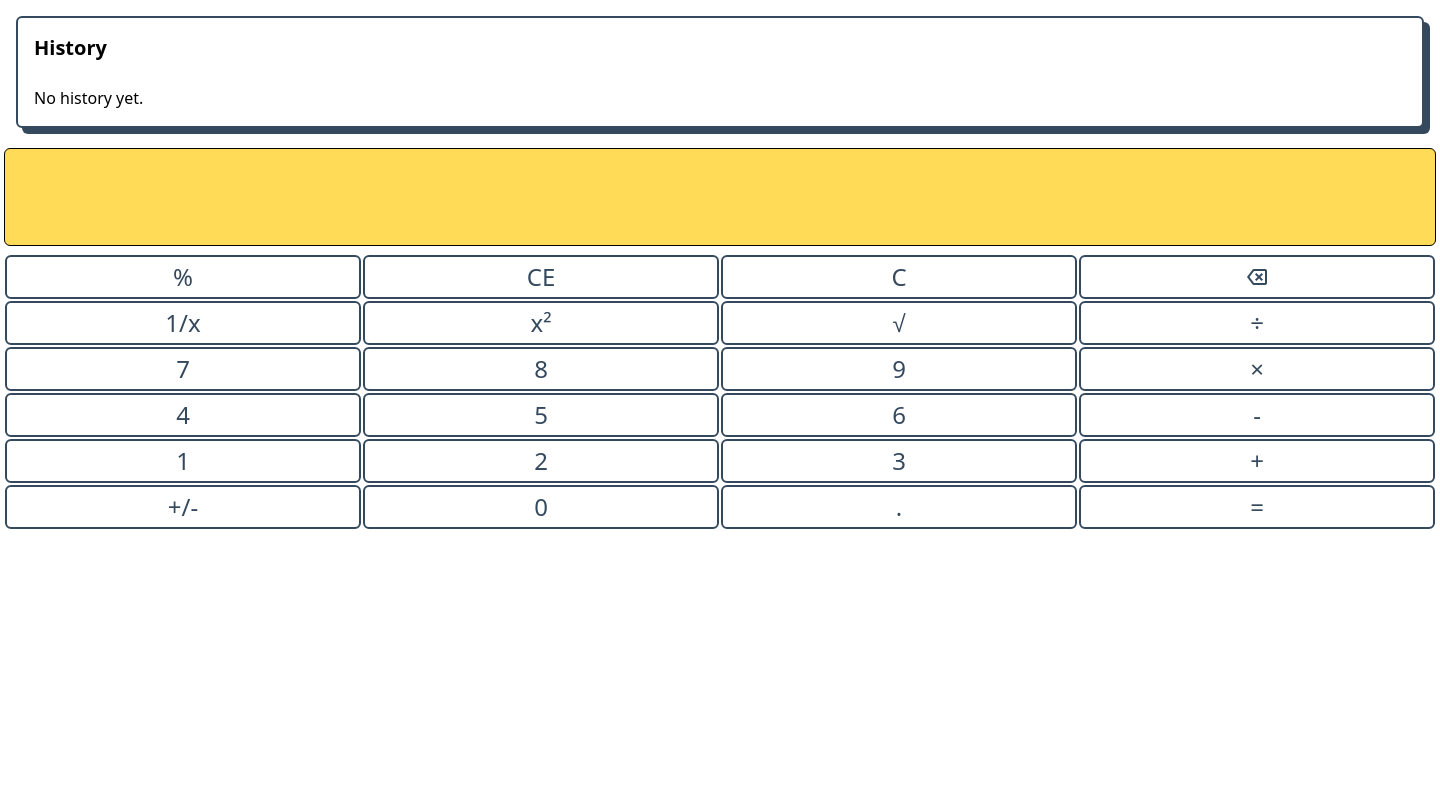
Test: Component: CalculatorContainer › can use `previousResult` as `previousEntry`
# Find the digit "1" button and click it
Step 1. Click the button with class "digital-button" showing "1" → (183, 461), box left=5, top=439, right=361, bottom=483
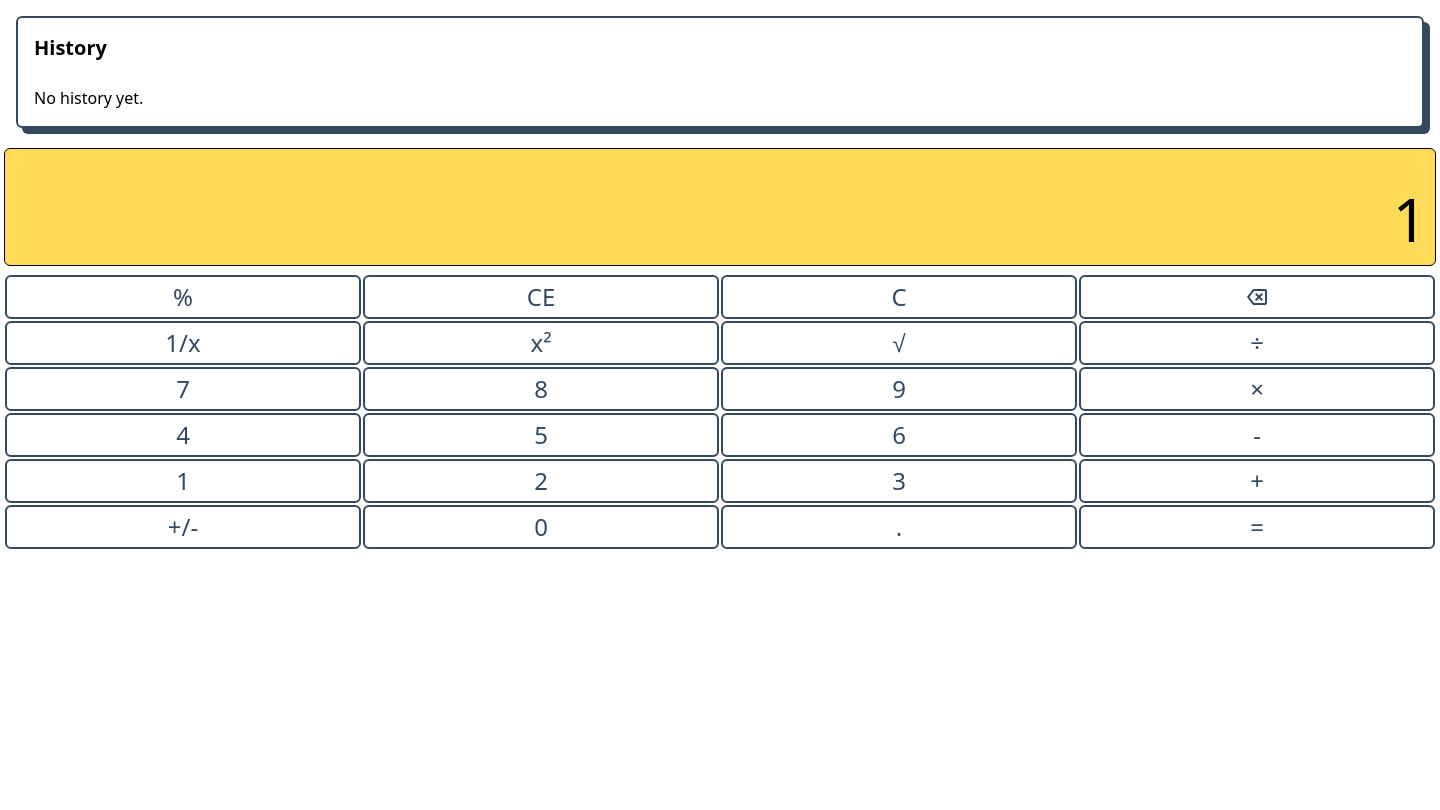
Expected: the text with class "entry-screen" reads "1", left=1393, top=178, right=1427, bottom=260
# Find the Addition button and click it
Step 2. Click the button with class "operational-button" showing "+" → (1257, 481), box left=1079, top=459, right=1435, bottom=503
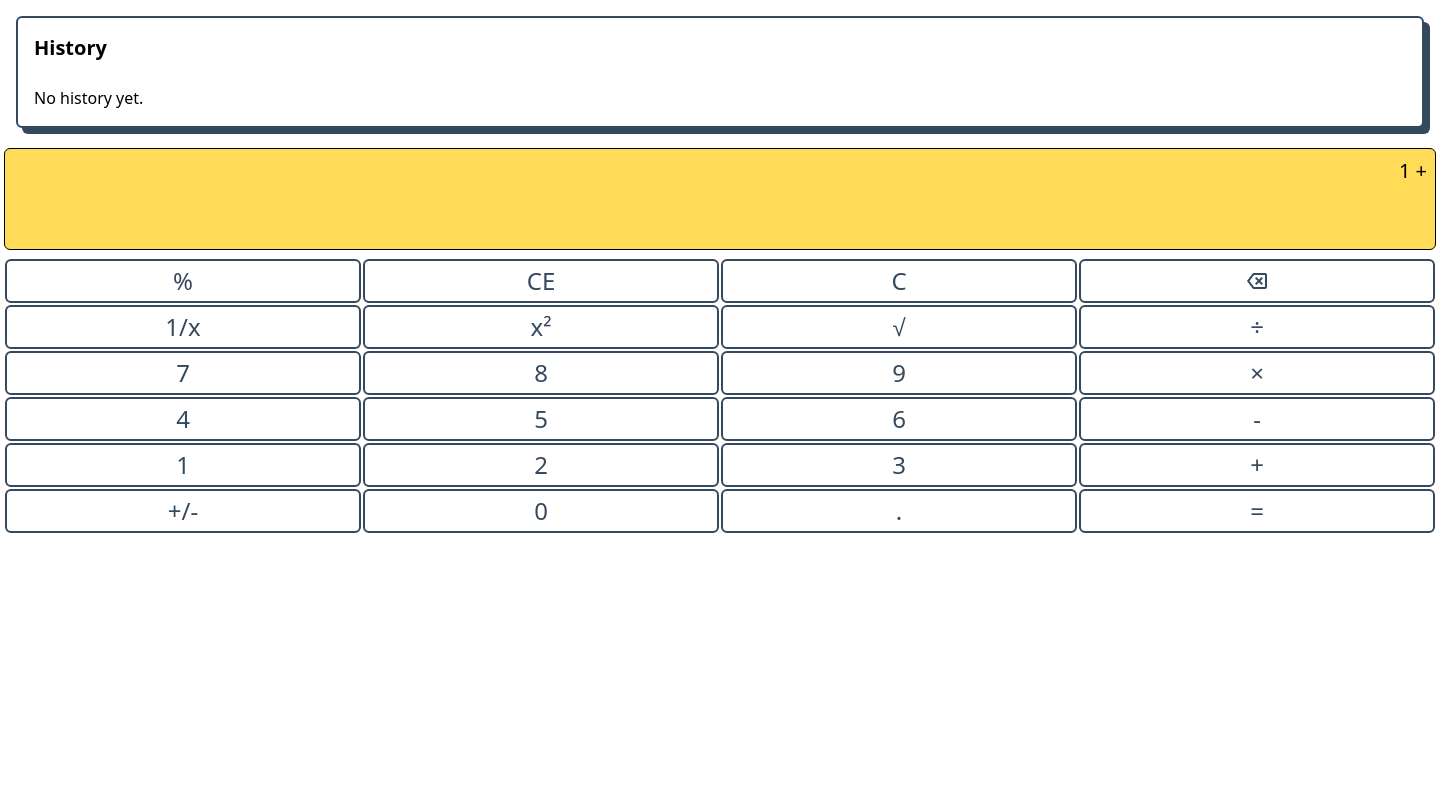
Expected: the text with class "expression-screen" reads "1 +", left=1399, top=157, right=1427, bottom=184
# Find the Equal button and click it
Step 3. Click the button with class "evaluation-button" showing "=" → (1257, 511), box left=1079, top=489, right=1435, bottom=533
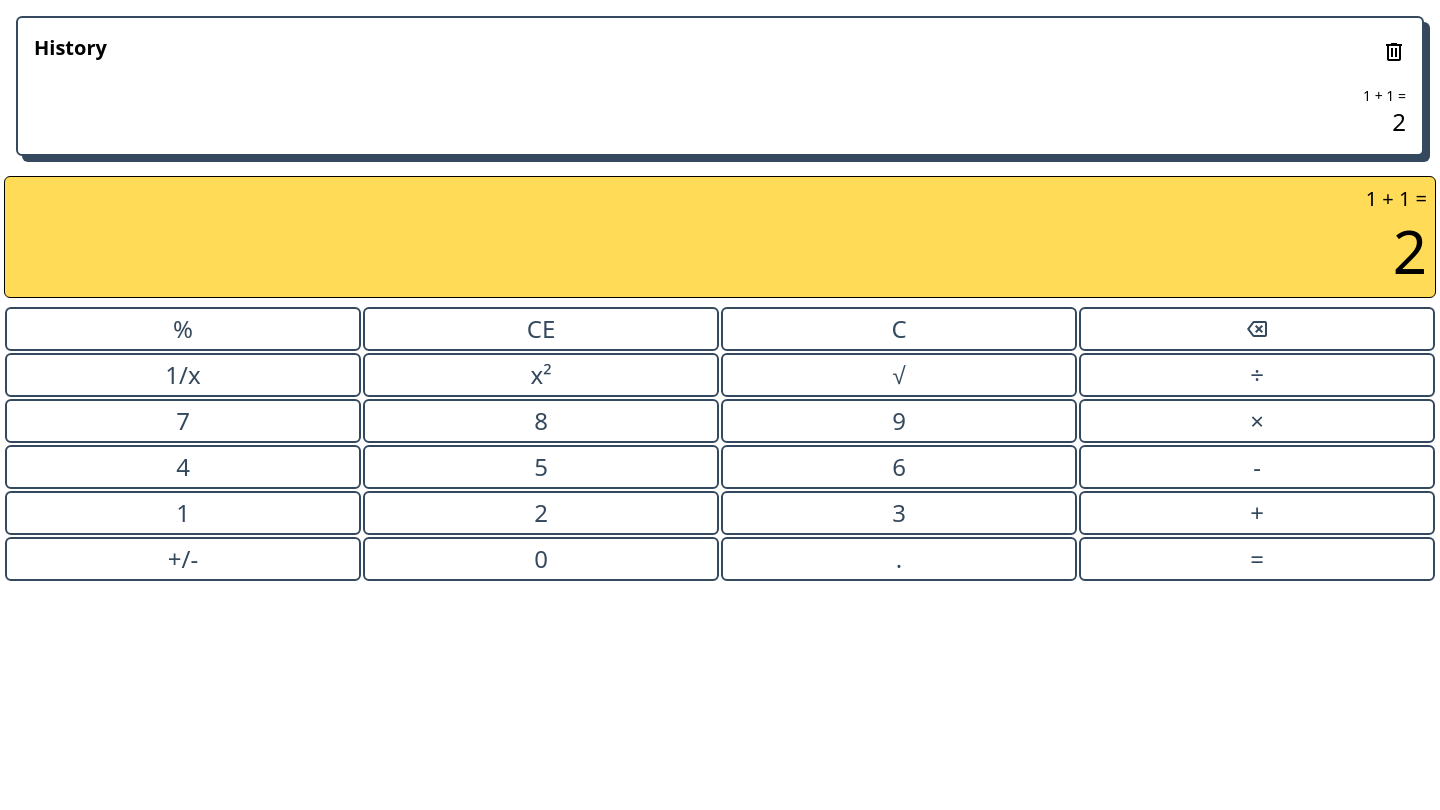
Expected: the text with class "expression-screen" reads "1 + 1 =", left=1366, top=185, right=1427, bottom=212
Expected: the text with class "entry-screen" reads "2", left=1393, top=210, right=1427, bottom=292
Step 4. Click the button with class "operational-button" showing "+" → (1257, 513), box left=1079, top=491, right=1435, bottom=535
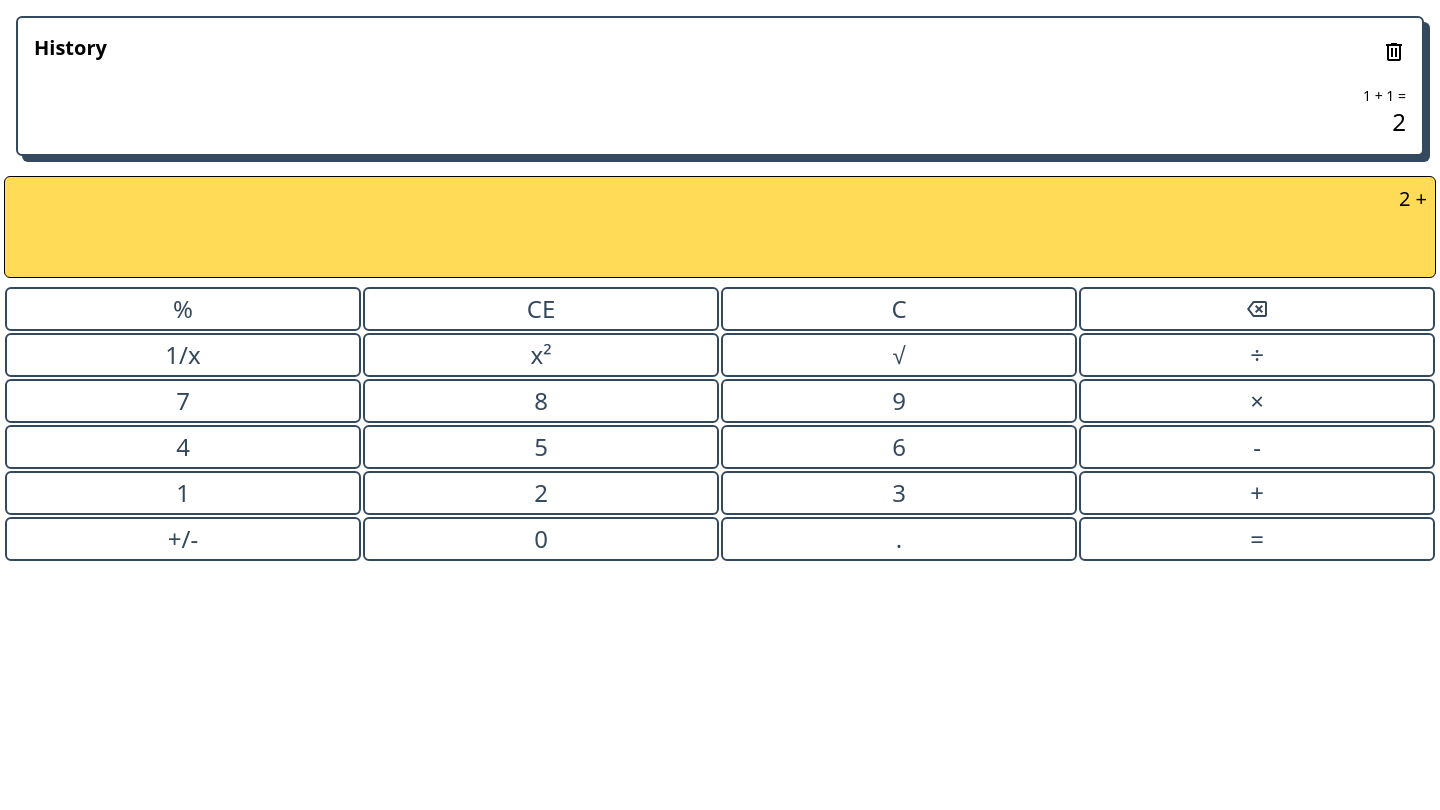
Expected: the text with class "expression-screen" reads "2 +", left=1399, top=185, right=1427, bottom=212
Step 5. Click the button with class "evaluation-button" showing "=" → (1257, 539), box left=1079, top=517, right=1435, bottom=561
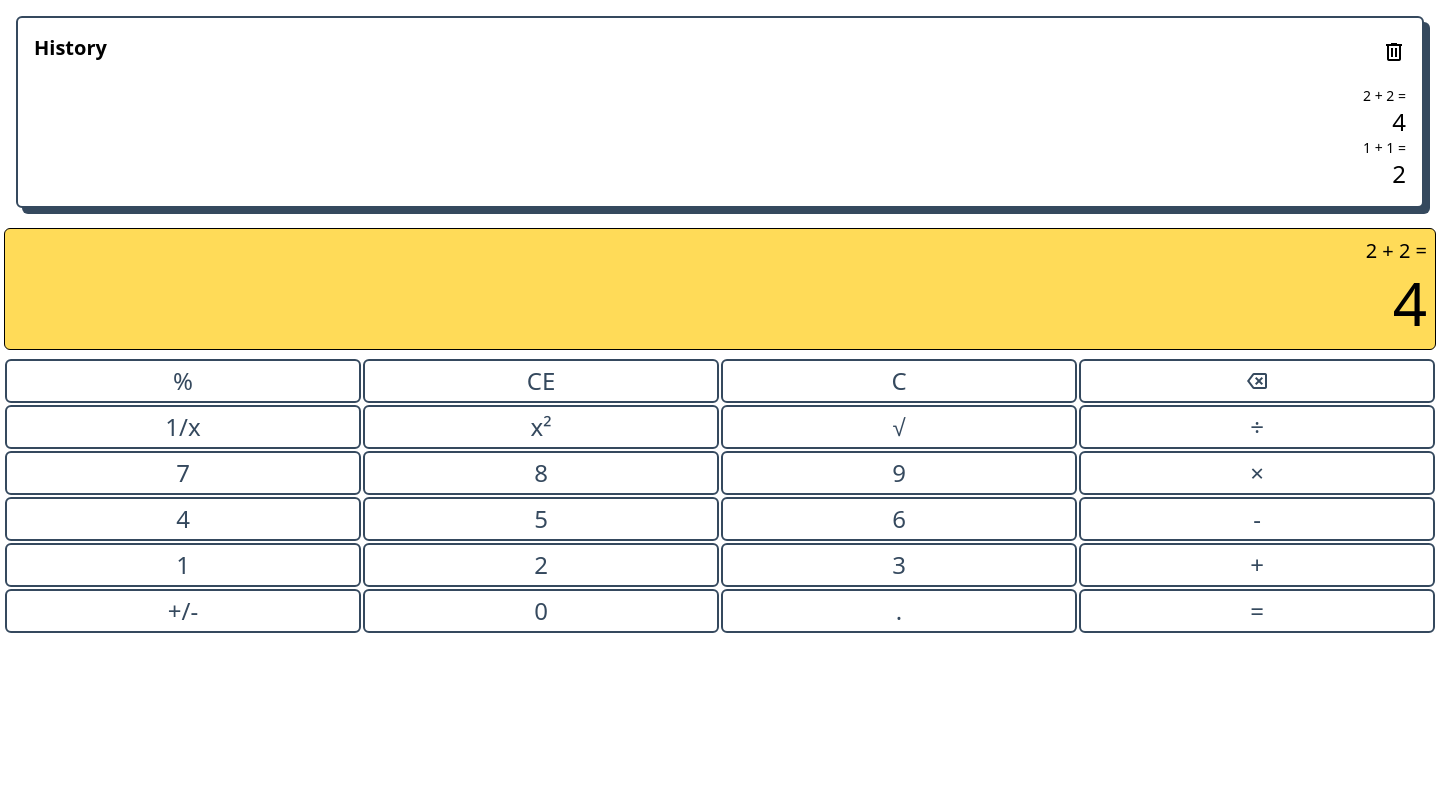
Expected: the text with class "expression-screen" reads "2 + 2 =", left=1366, top=237, right=1427, bottom=264
Expected: the text with class "entry-screen" reads "4", left=1393, top=262, right=1427, bottom=344
